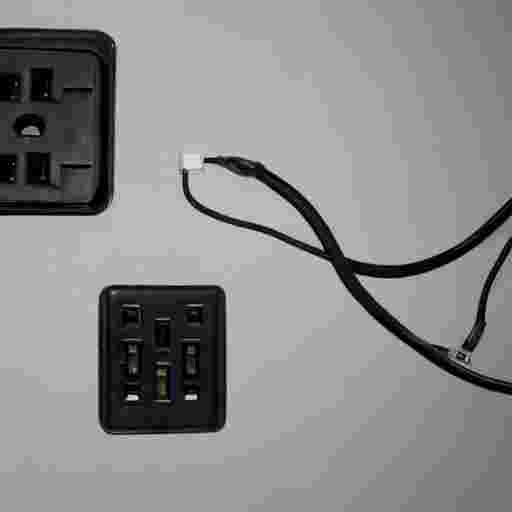power outlet: (99, 285, 225, 433)
